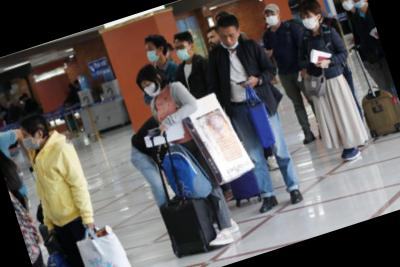mask_weared_incorrect: (219, 28, 242, 54)
with_mask: (19, 129, 40, 153), (141, 77, 162, 98), (173, 40, 192, 62), (301, 10, 320, 32), (145, 42, 162, 64), (264, 9, 281, 28)
without_mask: (207, 31, 223, 50)
